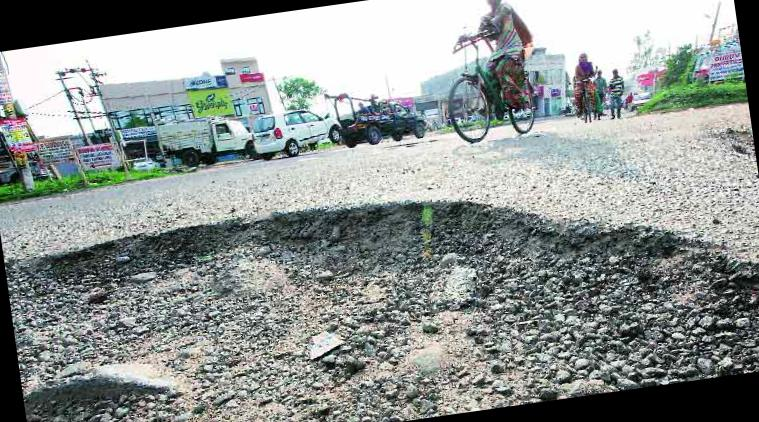pothole: (0, 132, 759, 422), (676, 108, 756, 177)
